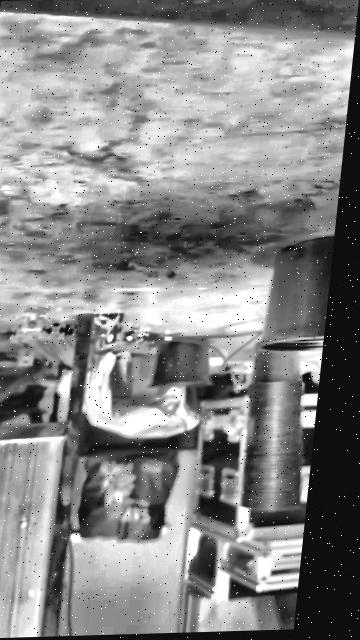pot: (255, 234, 335, 353), (150, 338, 211, 387)
